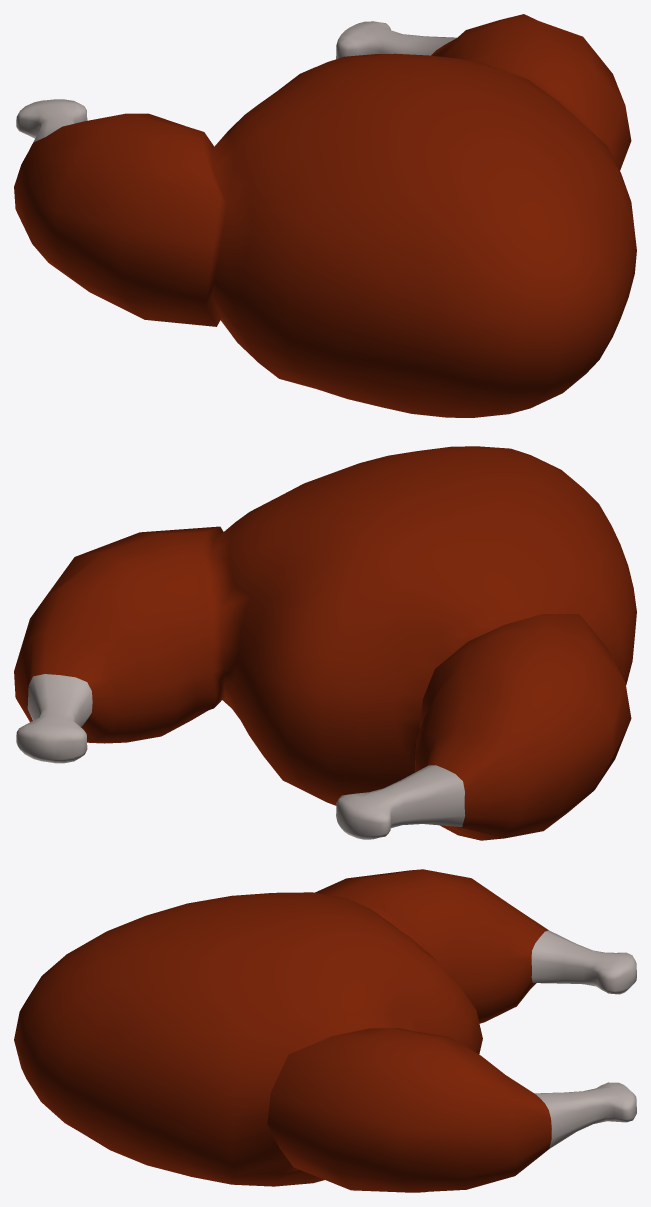
The model's file is CookedChicken.fbx.
3 renders of one model, top to bottom at view 1: azimuth 30°, elevation 25°; view 2: azimuth 150°, elevation 25°; view 3: azimuth 270°, elevation 25°, orthographic. The views are drawn at different scales.
Visible parts, largest first — view 1: pCube1; view 2: pCube1; view 3: pCube1.
Boxes of the visible parts, left/top/right/bottom form: pCube1: left=14, top=14, right=636, bottom=417; pCube1: left=14, top=446, right=636, bottom=840; pCube1: left=14, top=869, right=636, bottom=1192.
Size of the model in its own units: 1.29 by 0.6492 by 1.45.
